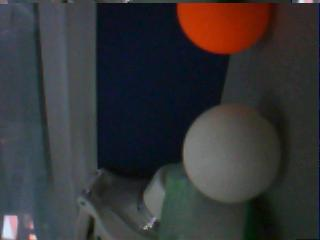oball: (177, 2, 271, 55)
